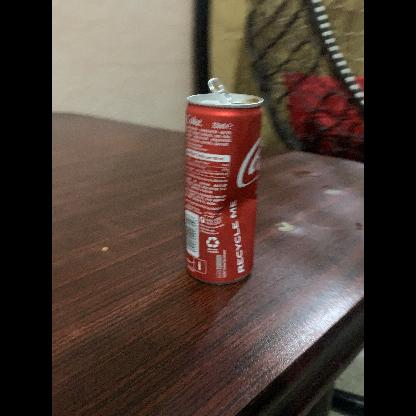Dent_Can: (196, 190, 258, 251)
Lid_Open: (200, 73, 254, 121)
Tin_Can: (181, 76, 273, 294)
